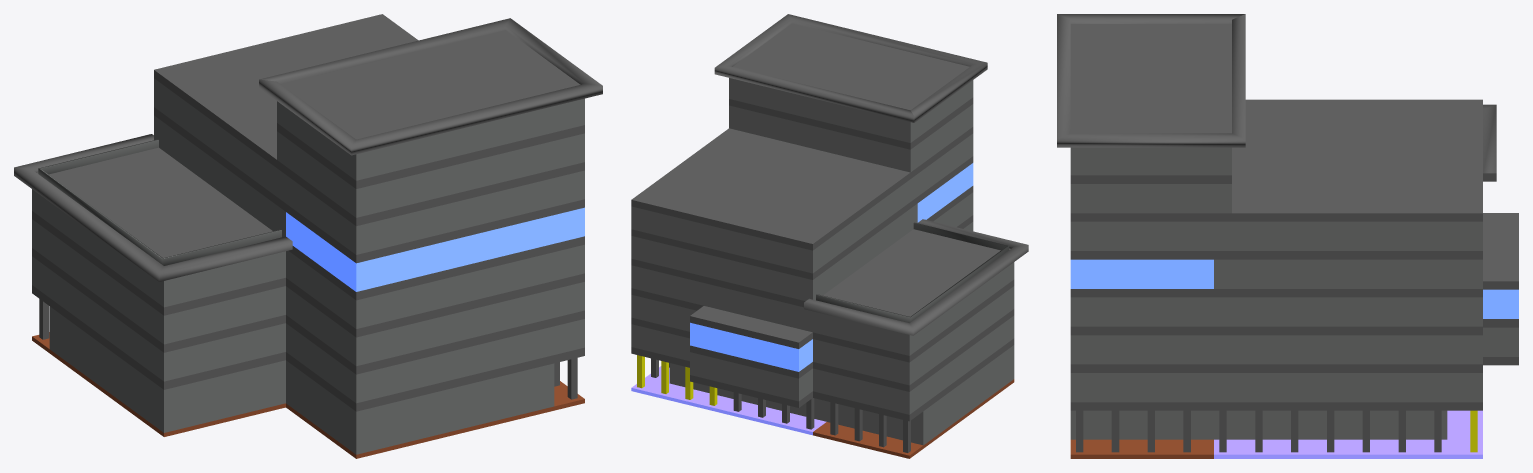
The model's file is My_Dream_Office_v4.glb.
3 views of the same model, side by side, from view 1: azimuth 30°, elevation 25°; view 2: azimuth 150°, elevation 25°; view 3: azimuth 270°, elevation 25° (orthographic). The views are drawn at different scales.
Parts seen in each view (by area): view 1: Seperator_17, Seperator_5, Seperator_9, Windows, Windows_10, Overhang_1, Windows_25, Windows_17, Windows_23, Windows_16, Windows_19, Windows_21 (+21 smaller); view 2: Seperator_5, Seperator_17, Seperator_9, Windows_8, Windows_6, Overhang_1, Windows_25, Windows_28, Windows_12, Windows_11, Windows_10, Windows_4 (+27 smaller); view 3: Seperator_5, Seperator_17, Windows, Windows_1, Windows_2, Windows_4, Windows_6, Windows_8, Overhang_1, Base, Windows_25, Windows_28 (+22 smaller).
Boxes of the visible parts, bbox=[...] form: Seperator_17: bbox=[282, 30, 580, 139]; Seperator_5: bbox=[154, 14, 418, 174]; Seperator_9: bbox=[37, 147, 272, 257]; Windows: bbox=[286, 360, 554, 454]; Windows_10: bbox=[49, 306, 285, 432]; Overhang_1: bbox=[259, 18, 602, 155]; Windows_25: bbox=[277, 131, 584, 217]; Windows_17: bbox=[286, 282, 584, 366]; Windows_23: bbox=[286, 170, 584, 254]; Windows_16: bbox=[286, 319, 584, 403]; Windows_19: bbox=[286, 244, 584, 328]; Windows_21: bbox=[286, 207, 584, 291]; Seperator_5: bbox=[631, 128, 917, 250]; Seperator_17: bbox=[733, 23, 969, 110]; Seperator_9: bbox=[823, 229, 1010, 316]; Windows_8: bbox=[631, 174, 917, 273]; Windows_6: bbox=[631, 203, 917, 300]; Overhang_1: bbox=[714, 14, 987, 122]; Windows_25: bbox=[729, 104, 973, 172]; Windows_28: bbox=[729, 78, 973, 142]; Windows_12: bbox=[813, 286, 1014, 385]; Windows_11: bbox=[813, 315, 1014, 414]; Windows_10: bbox=[826, 345, 1014, 445]; Windows_4: bbox=[631, 265, 812, 332]; Seperator_5: bbox=[1214, 99, 1482, 221]; Seperator_17: bbox=[1070, 24, 1231, 133]; Windows: bbox=[1070, 410, 1447, 439]; Windows_1: bbox=[1214, 373, 1482, 402]; Windows_2: bbox=[1214, 335, 1482, 364]; Windows_4: bbox=[1214, 297, 1482, 326]; Windows_6: bbox=[1214, 259, 1482, 288]; Windows_8: bbox=[1214, 221, 1482, 250]; Overhang_1: bbox=[1057, 14, 1245, 147]; Base: bbox=[1214, 410, 1482, 458]; Windows_25: bbox=[1070, 184, 1231, 213]; Windows_28: bbox=[1070, 147, 1231, 175].
Size of the model in its own units: 40.82 by 33.38 by 42.9.
